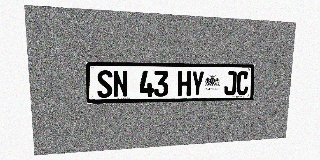3: (154, 70, 168, 97)
4: (139, 70, 154, 97)
C: (236, 71, 249, 95)
H: (177, 71, 191, 96)
J: (224, 71, 237, 95)
N: (113, 70, 128, 98)
S: (97, 70, 113, 98)
Y: (191, 71, 204, 96)
